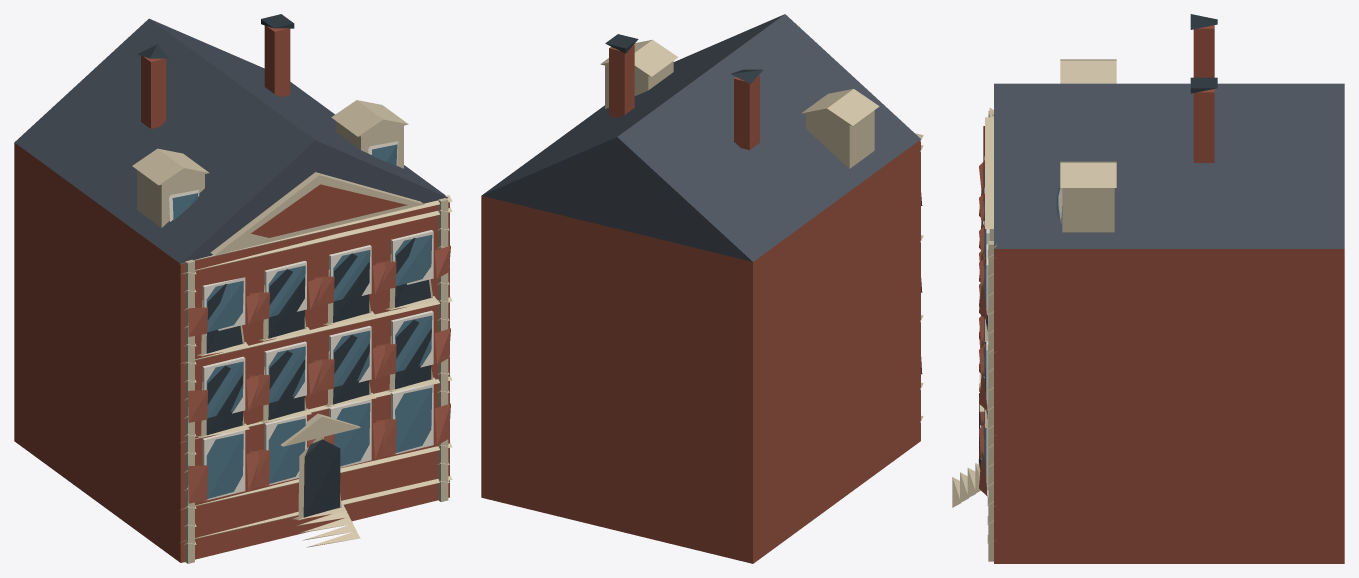
Rendered from rembrandt-house.lod1.glb.
3 views of the same model, side by side, from view 1: azimuth 30°, elevation 25°; view 2: azimuth 150°, elevation 25°; view 3: azimuth 270°, elevation 25° (orthographic). The views are drawn at different scales.
Visible parts, largest first — view 1: rembrandt-house; view 2: rembrandt-house; view 3: rembrandt-house.
Boxes of the visible parts, x1,y1,x2,y2 form: rembrandt-house: (14, 14, 452, 563); rembrandt-house: (481, 14, 923, 563); rembrandt-house: (952, 14, 1344, 563).
Size of the model in its own units: 16.47 by 24.5 by 19.62.
